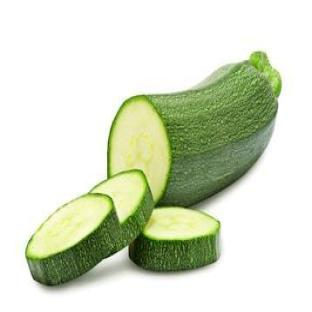Zucchini: (109, 53, 281, 206), (26, 194, 120, 284), (129, 207, 219, 271), (91, 170, 154, 253)
